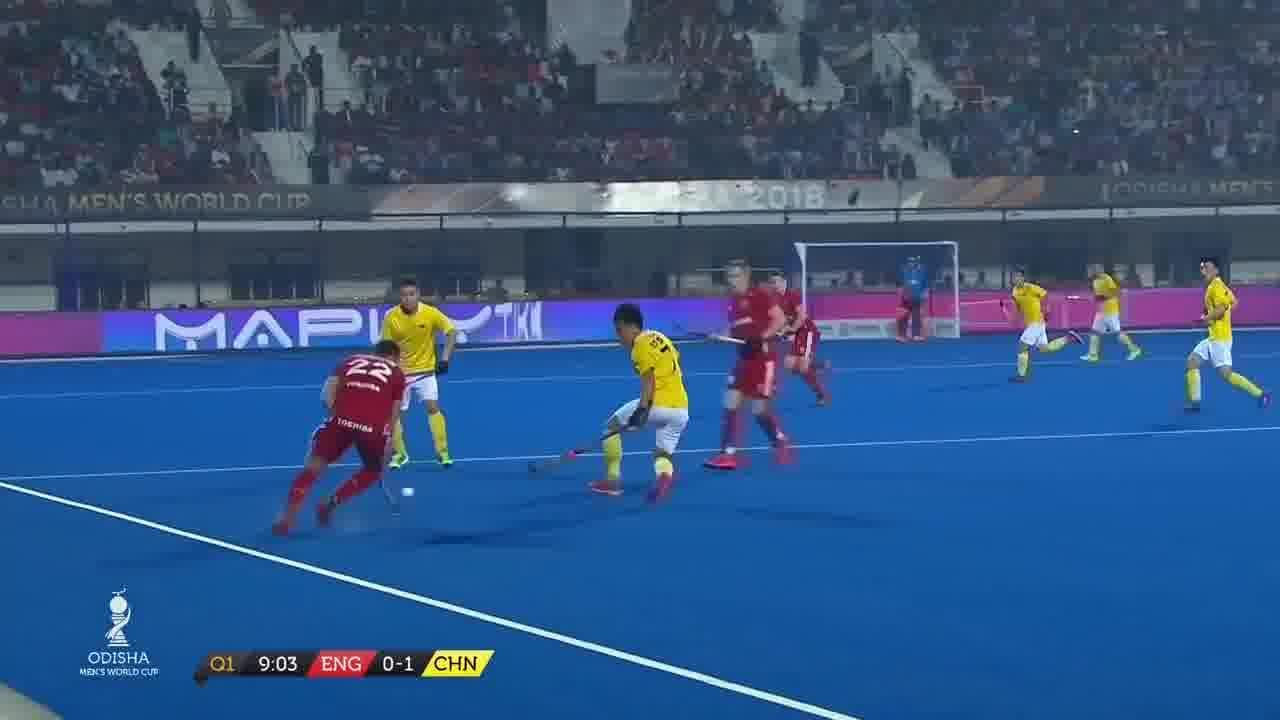ball: (394, 474, 420, 510)
